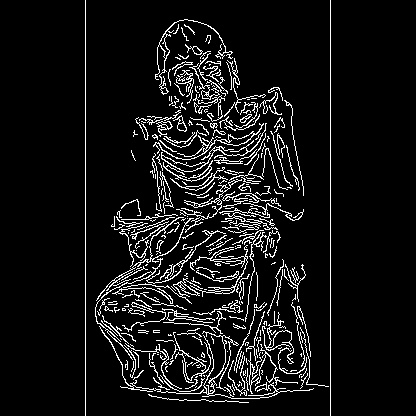buddha-sitting: (203, 200, 214, 394)
